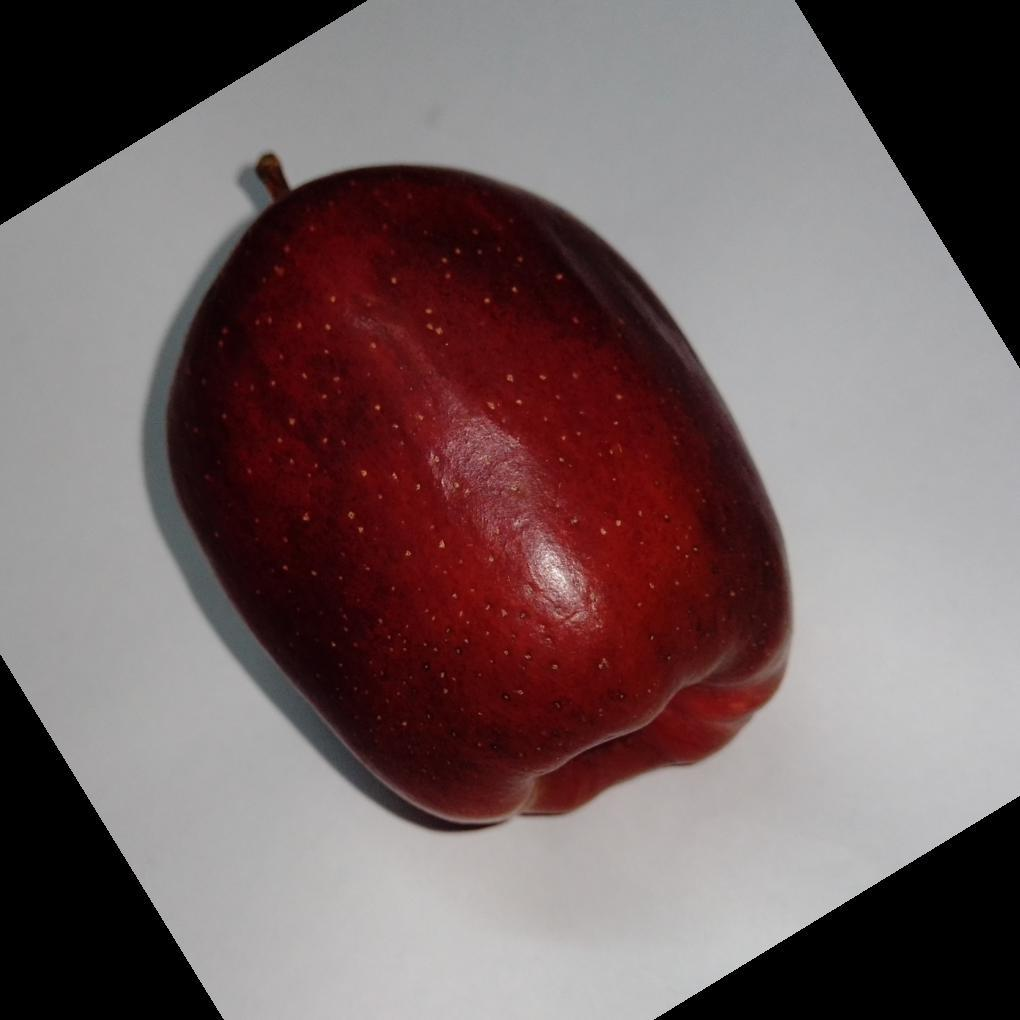FreshOrange: (157, 165, 794, 836)
